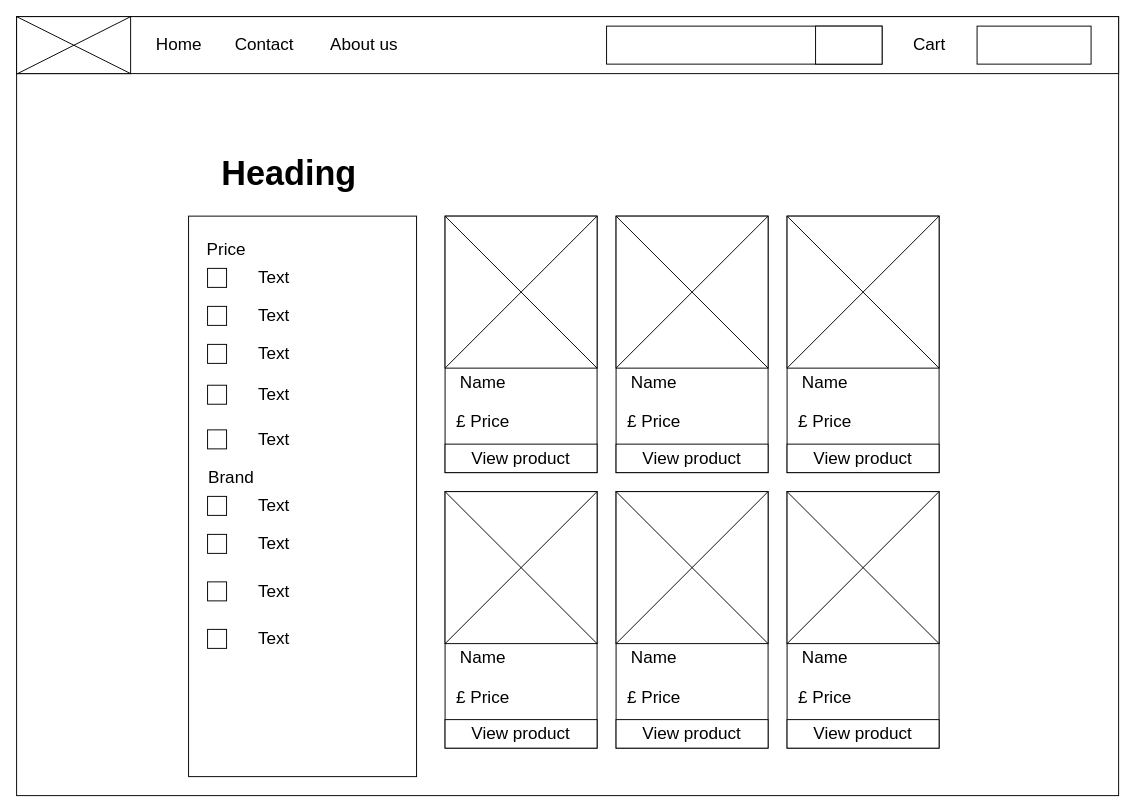
This 1135x812 diagram has some shape labels left out. The centre of each missing label's shape, as x and y in pixels:
"Login" belongs at point 1033,44.
"Search" belongs at point 848,44.
